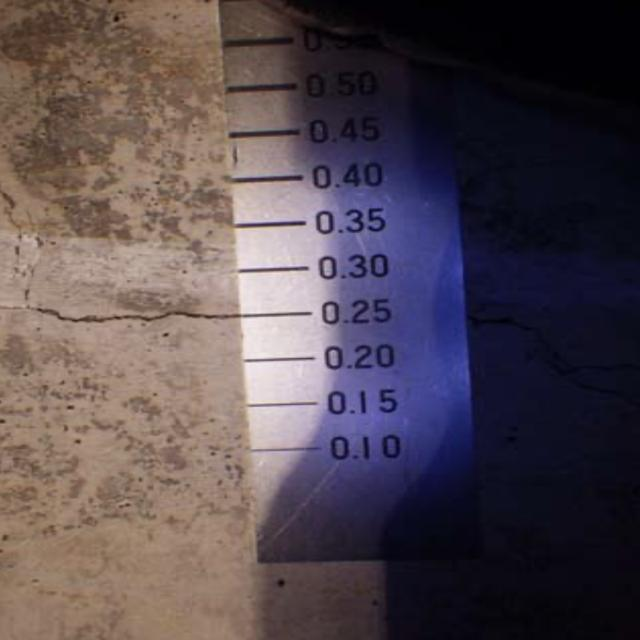crack: (6, 267, 240, 349)
